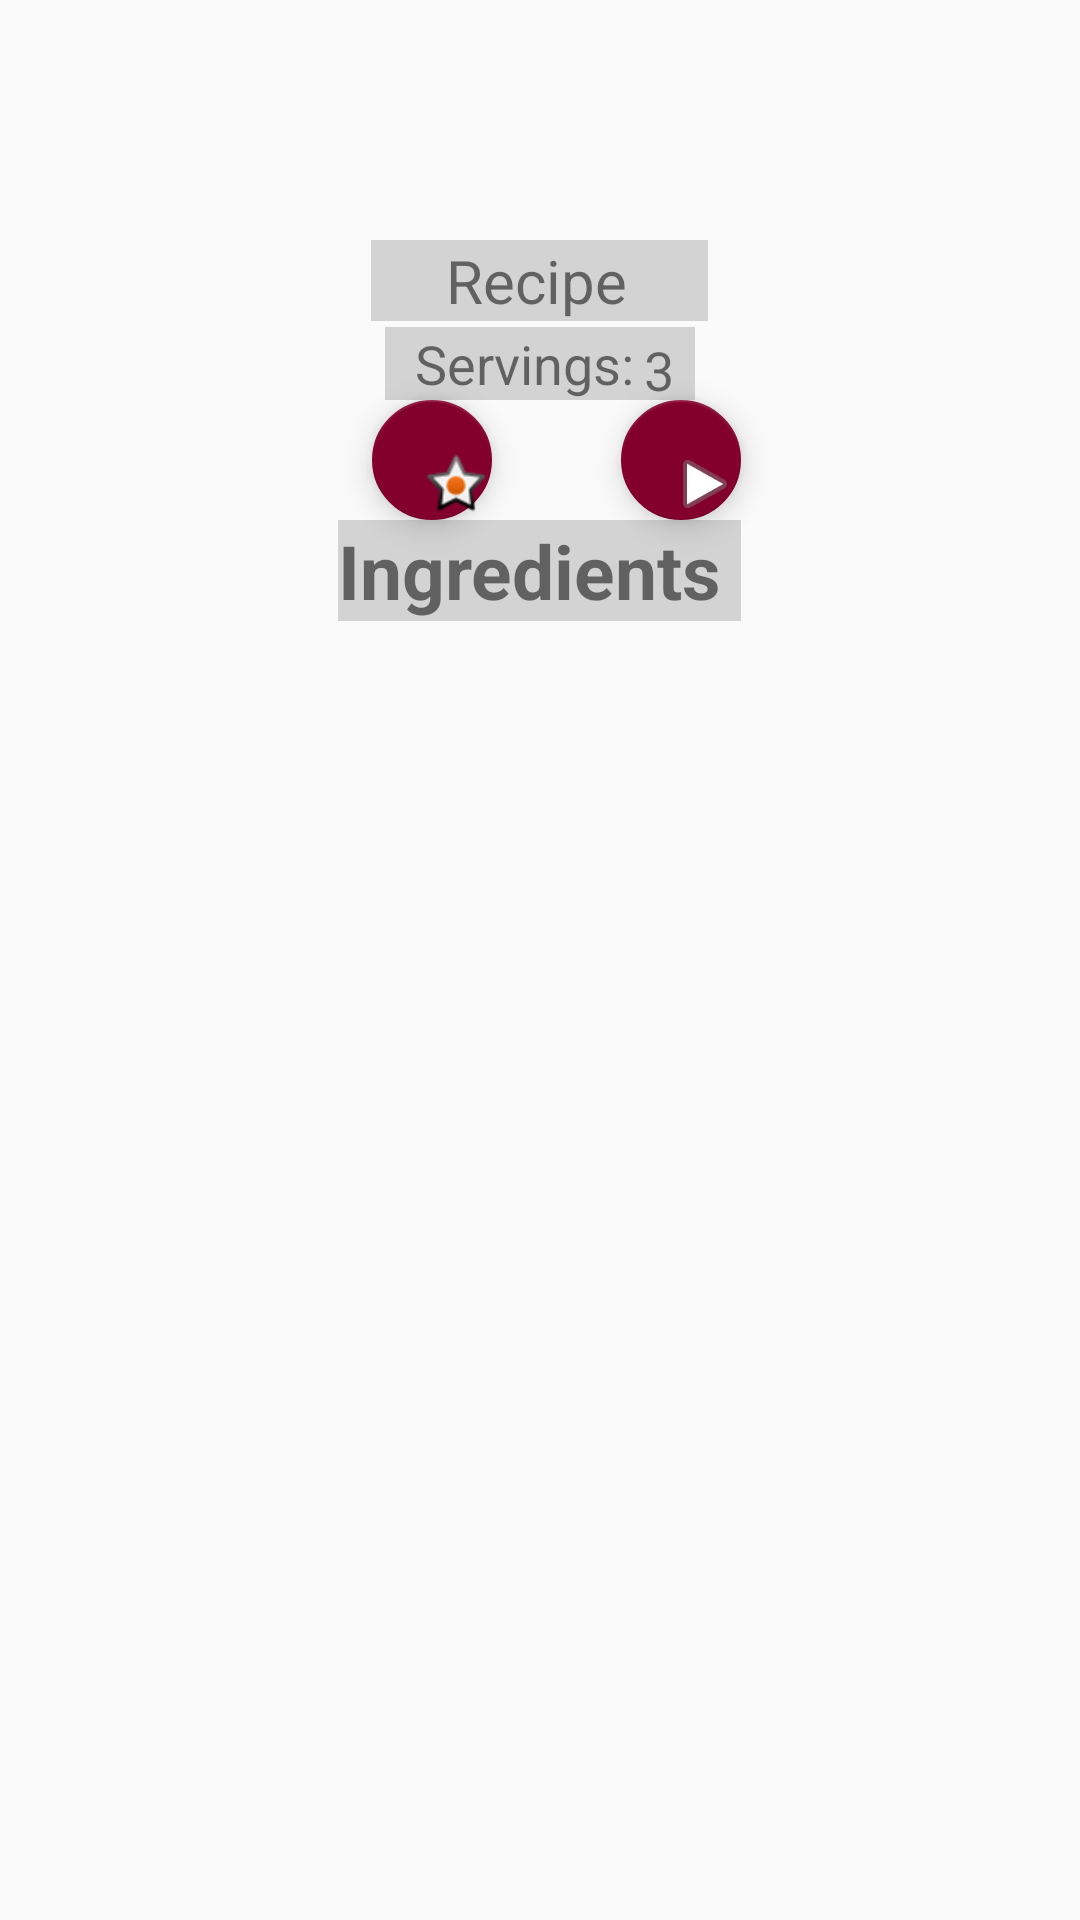

Named icons in this screenshot (1080 × 1920) and their centers, (x,y):
play: (681,460)
star on: (432,460)
